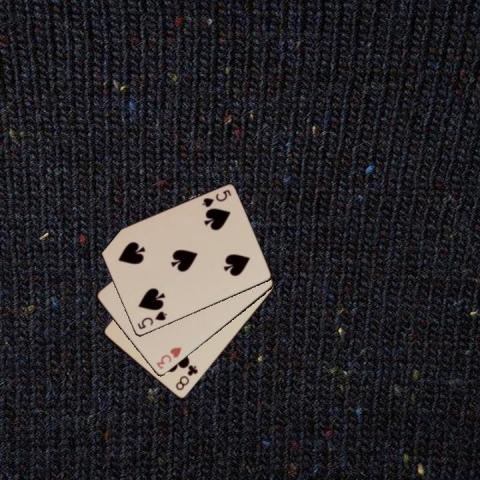3h: (153, 344, 183, 371)
5s: (134, 308, 168, 330), (198, 186, 232, 208)
8c: (173, 362, 199, 392)
